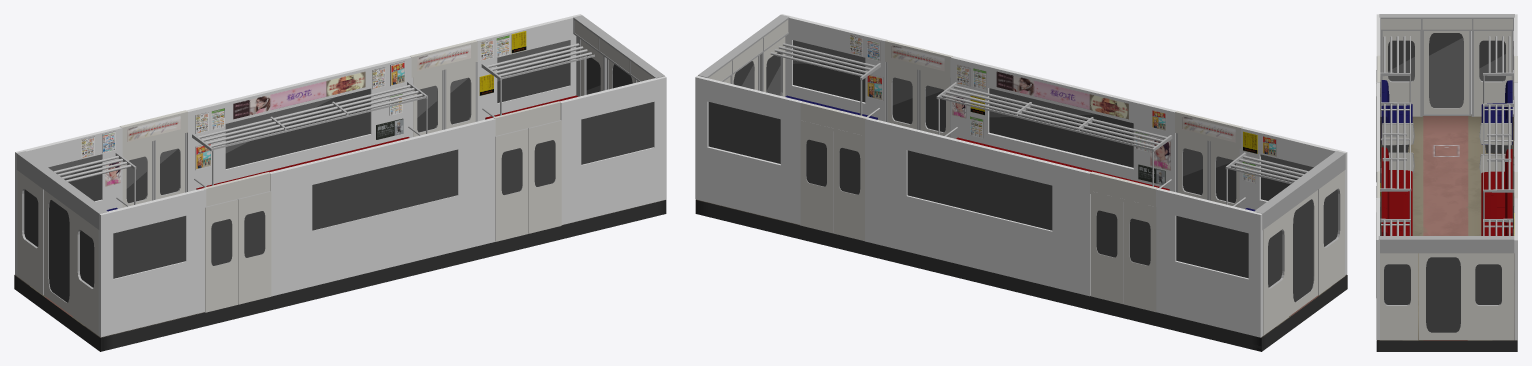
Rendered from inside the train 06.fbx.
3 views of the same model, side by side, from view 1: azimuth 30°, elevation 25°; view 2: azimuth 150°, elevation 25°; view 3: azimuth 270°, elevation 25° (orthographic). The views are drawn at different scales.
Visible parts, largest first — view 1: Cube.147, Cube.150, Cube.149, Cube.049, Cube.080, Cube.046, Cube.054, Cube.094, Cube.043, Cube.037, Cube.082, Cube.006 (+39 smaller); view 2: Cube.080, Cube.082, Cube.094, Cube.049, Cube.147, Cube.054, Cube.046, Cube.149, Cube.058, Cube.027, Cube.150, Cube.100 (+39 smaller); view 3: Cube.049, Cube.039, Cube.042, Cube.034, Cube.104, Cube.055, Cube.053, Cube.047, Cube.051, Cube.040, Cube.052, Cube.056 (+43 smaller).
Boxes of the visible parts, x1=… form: Cube.147: x1=270, y1=118, x2=495, y2=296; Cube.150: x1=98, y1=188, x2=206, y2=337; Cube.149: x1=560, y1=76, x2=666, y2=224; Cube.049: x1=14, y1=200, x2=666, y2=351; Cube.080: x1=186, y1=56, x2=412, y2=191; Cube.046: x1=312, y1=149, x2=457, y2=230; Cube.054: x1=225, y1=88, x2=370, y2=168; Cube.094: x1=475, y1=14, x2=581, y2=121; Cube.043: x1=113, y1=216, x2=185, y2=278; Cube.037: x1=581, y1=102, x2=653, y2=164; Cube.082: x1=15, y1=126, x2=122, y2=275; Cube.006: x1=495, y1=128, x2=528, y2=241; Cube.080: x1=865, y1=117, x2=1091, y2=296; Cube.082: x1=1156, y1=188, x2=1262, y2=337; Cube.094: x1=695, y1=75, x2=802, y2=224; Cube.049: x1=695, y1=199, x2=1347, y2=351; Cube.147: x1=950, y1=56, x2=1176, y2=192; Cube.054: x1=907, y1=150, x2=1052, y2=230; Cube.046: x1=989, y1=88, x2=1133, y2=167; Cube.149: x1=781, y1=14, x2=886, y2=121; Cube.058: x1=1176, y1=216, x2=1248, y2=278; Cube.027: x1=708, y1=102, x2=780, y2=163; Cube.150: x1=1239, y1=126, x2=1347, y2=275; Cube.100: x1=1090, y1=191, x2=1123, y2=303; Cube.049: x1=1376, y1=114, x2=1517, y2=351; Cube.039: x1=1467, y1=253, x2=1513, y2=340; Cube.042: x1=1426, y1=257, x2=1460, y2=332; Cube.034: x1=1429, y1=33, x2=1463, y2=107; Cube.104: x1=1378, y1=236, x2=1514, y2=253; Cube.055: x1=1380, y1=253, x2=1418, y2=340; Cube.053: x1=1379, y1=14, x2=1514, y2=30; Cube.047: x1=1471, y1=31, x2=1513, y2=116; Cube.051: x1=1380, y1=31, x2=1422, y2=116; Cube.040: x1=1419, y1=253, x2=1467, y2=339; Cube.052: x1=1422, y1=31, x2=1471, y2=115; Cube.056: x1=1384, y1=264, x2=1410, y2=304.
Bounding box in the file's own units: 48467 × 11214 × 12851.
